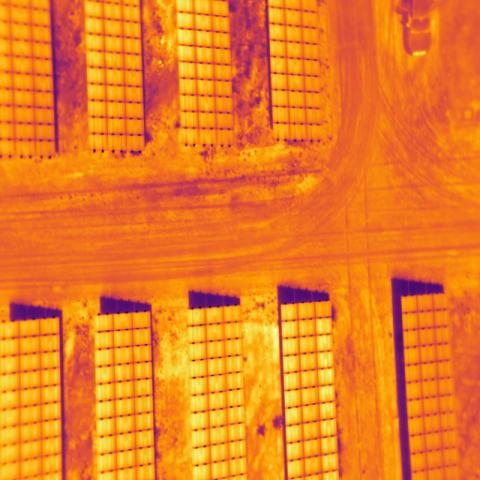fault: (316, 317, 335, 369)
